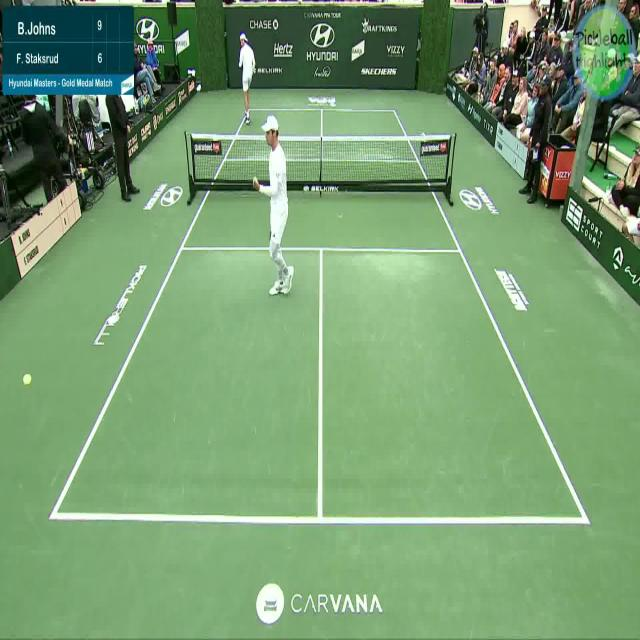ball: (21, 369, 34, 387)
